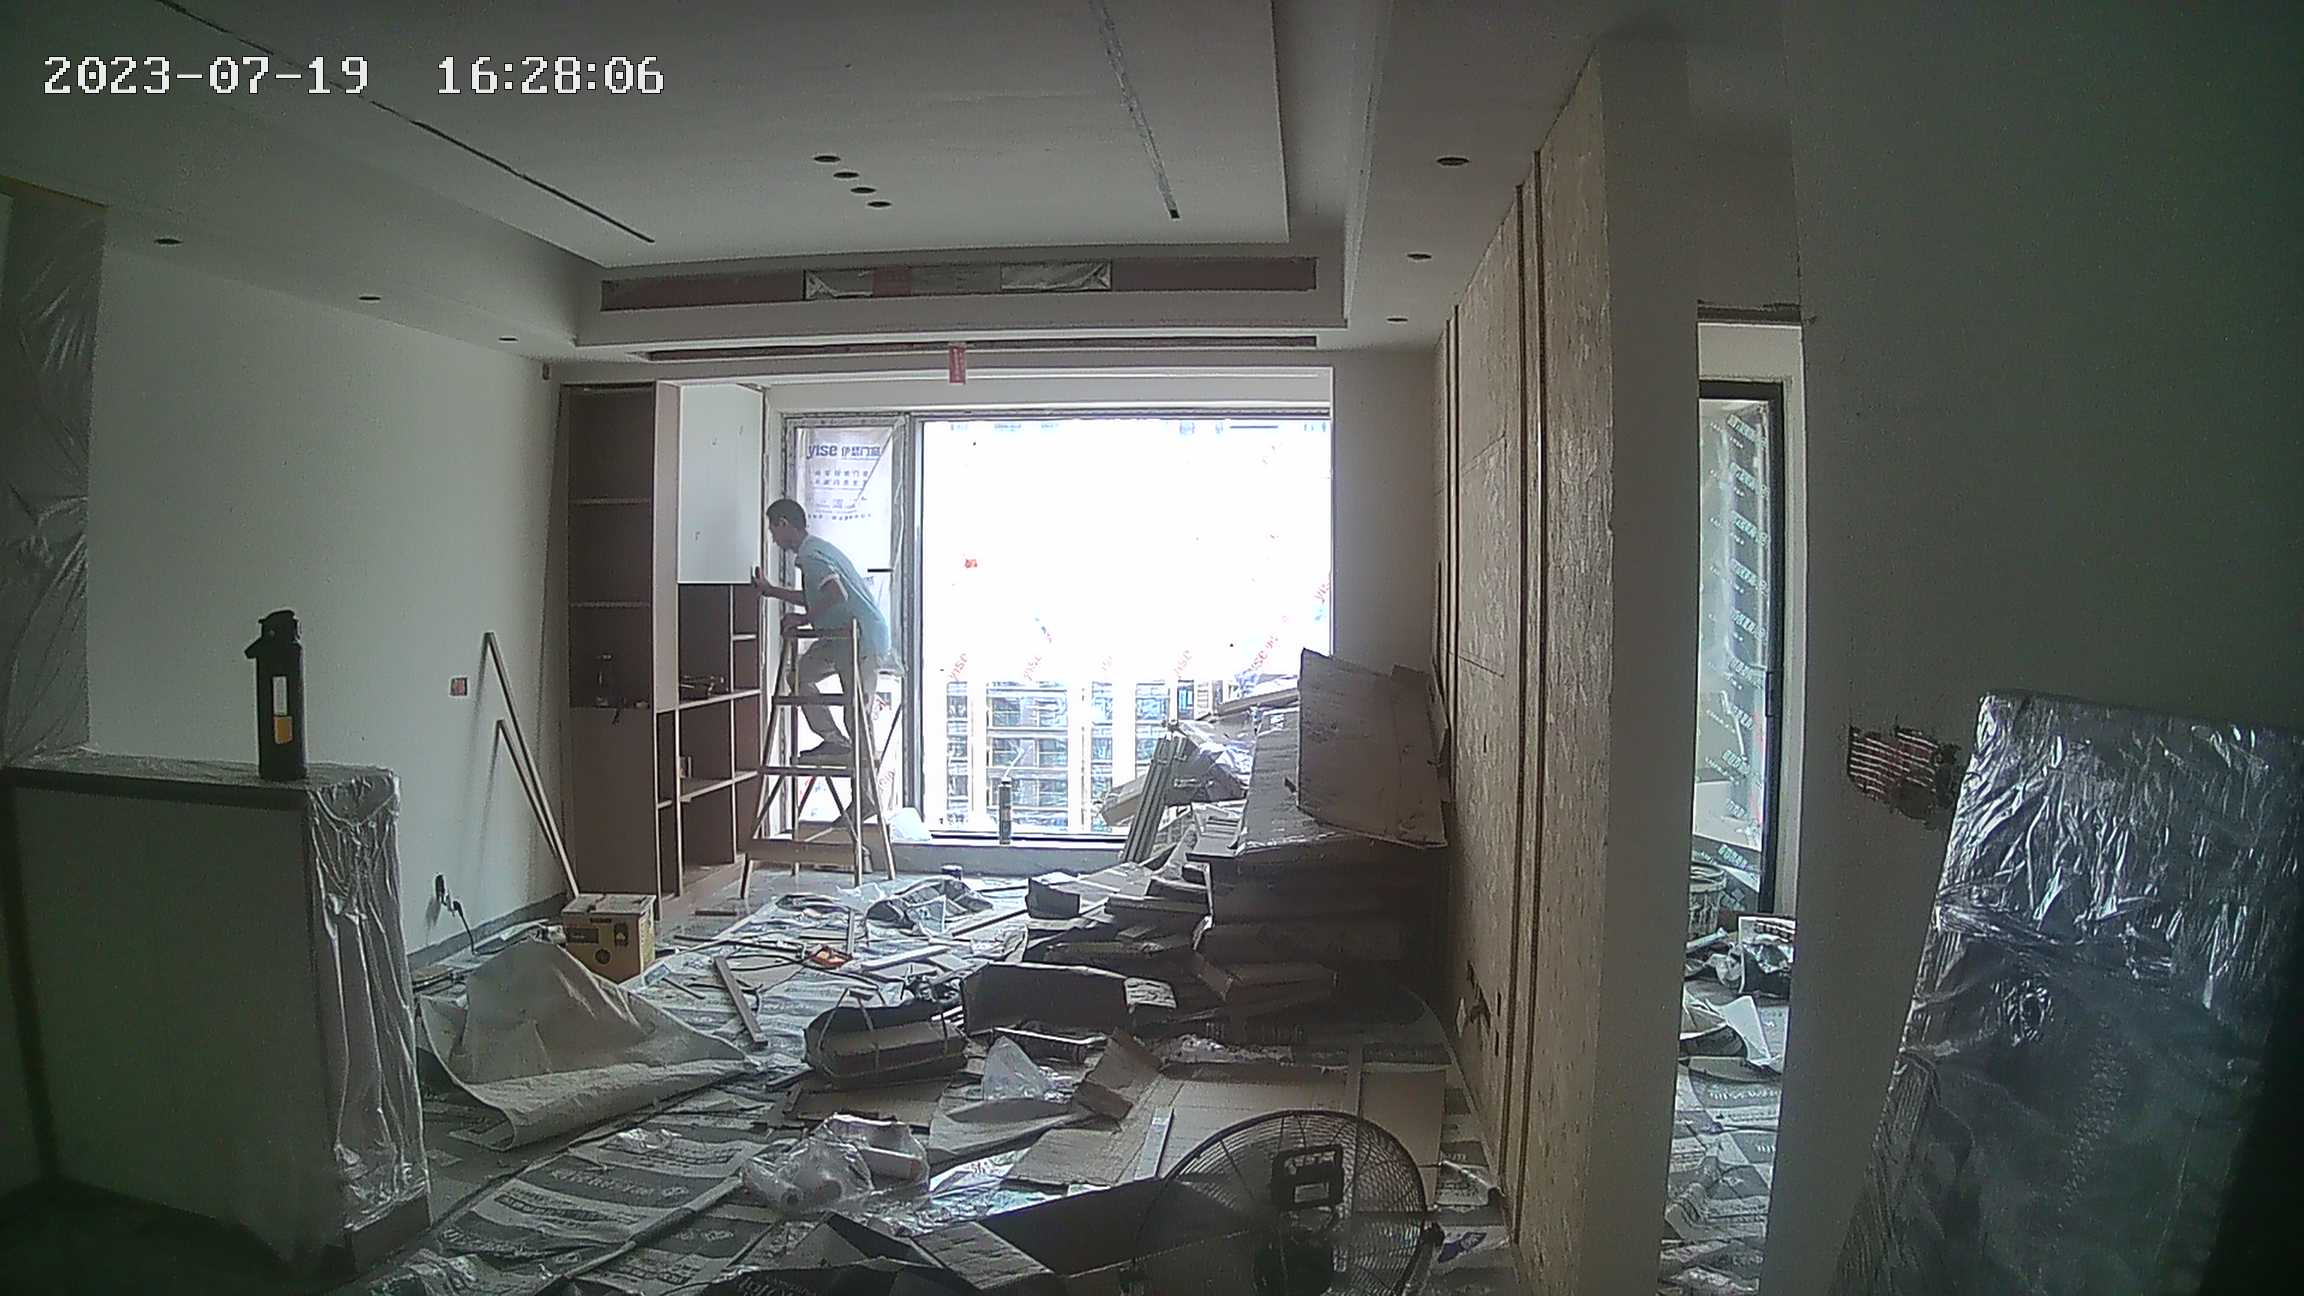people: (753, 501, 892, 828)
window: (789, 418, 1335, 844), (1701, 396, 1775, 901)
